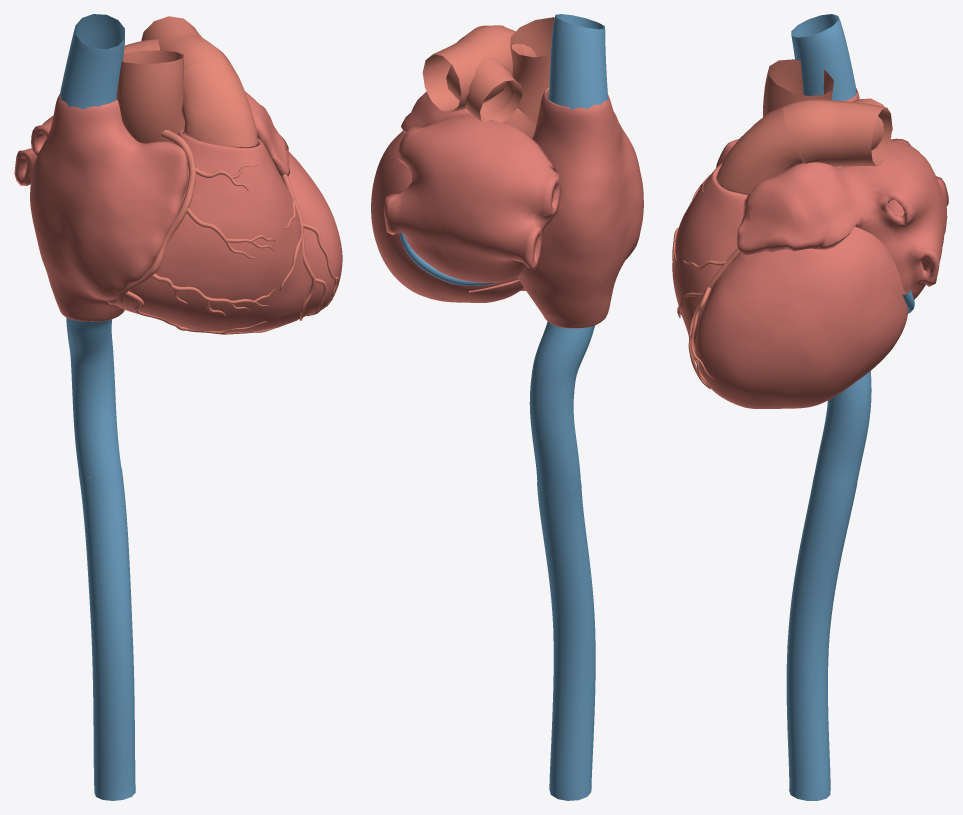
File: heart.glb
The picture shows the model from 3 angles, left to right: view 1: azimuth 30°, elevation 25°; view 2: azimuth 150°, elevation 25°; view 3: azimuth 270°, elevation 25°; orthographic projection.
Visible parts, largest first — view 1: Right atrium.001, Right ventricle.001, Inferior vena cava (abdominal part).001, Inferior vena cava (thoracic part).001, Ascending aorta.001, Pulmonary trunk.001, Superior vena cava.001, Right coronary artery.001, Left ventricle.001, Bifurcation of pulmonary trunk.001, Left atrium.001, Anterior interventricular artery.001; view 2: Left atrium.001, Right atrium.001, Inferior vena cava (abdominal part).001, Inferior vena cava (thoracic part).001, Bifurcation of pulmonary trunk.001, Left ventricle.001, Superior vena cava.001, Ascending aorta.001, Coronary sinus.001; view 3: Left ventricle.001, Left atrium.001, Inferior vena cava (abdominal part).001, Bifurcation of pulmonary trunk.001, Right ventricle.001, Inferior vena cava (thoracic part).001, Pulmonary trunk.001, Superior vena cava.001, Ascending aorta.001, Anterior interventricular artery.001.
Boxes of the visible parts, x1=… form: Right atrium.001: x1=30, y1=94, x2=187, y2=321; Right ventricle.001: x1=110, y1=129, x2=308, y2=332; Inferior vena cava (abdominal part).001: x1=78, y1=468, x2=135, y2=800; Inferior vena cava (thoracic part).001: x1=66, y1=318, x2=121, y2=477; Ascending aorta.001: x1=116, y1=50, x2=186, y2=143; Pulmonary trunk.001: x1=181, y1=58, x2=258, y2=147; Superior vena cava.001: x1=60, y1=14, x2=124, y2=109; Right coronary artery.001: x1=106, y1=130, x2=286, y2=334; Left ventricle.001: x1=288, y1=152, x2=342, y2=316; Bifurcation of pulmonary trunk.001: x1=124, y1=16, x2=230, y2=70; Left atrium.001: x1=14, y1=91, x2=290, y2=185; Anterior interventricular artery.001: x1=279, y1=174, x2=339, y2=320; Left atrium.001: x1=383, y1=91, x2=560, y2=282; Right atrium.001: x1=518, y1=87, x2=643, y2=328; Inferior vena cava (abdominal part).001: x1=537, y1=482, x2=595, y2=800; Inferior vena cava (thoracic part).001: x1=529, y1=321, x2=595, y2=495; Bifurcation of pulmonary trunk.001: x1=422, y1=25, x2=523, y2=125; Left ventricle.001: x1=371, y1=130, x2=523, y2=302; Superior vena cava.001: x1=548, y1=14, x2=608, y2=110; Ascending aorta.001: x1=504, y1=17, x2=554, y2=138; Coronary sinus.001: x1=399, y1=232, x2=496, y2=285; Left ventricle.001: x1=695, y1=226, x2=908, y2=408; Left atrium.001: x1=737, y1=138, x2=948, y2=299; Inferior vena cava (abdominal part).001: x1=786, y1=475, x2=857, y2=800; Bifurcation of pulmonary trunk.001: x1=783, y1=98, x2=892, y2=166; Right ventricle.001: x1=672, y1=162, x2=749, y2=347; Inferior vena cava (thoracic part).001: x1=814, y1=371, x2=871, y2=487; Pulmonary trunk.001: x1=716, y1=105, x2=803, y2=193; Superior vena cava.001: x1=791, y1=14, x2=856, y2=100; Ascending aorta.001: x1=763, y1=59, x2=842, y2=167; Anterior interventricular artery.001: x1=677, y1=248, x2=740, y2=388.
Size of the model in its own units: 0.1191 by 0.347 by 0.1129.
